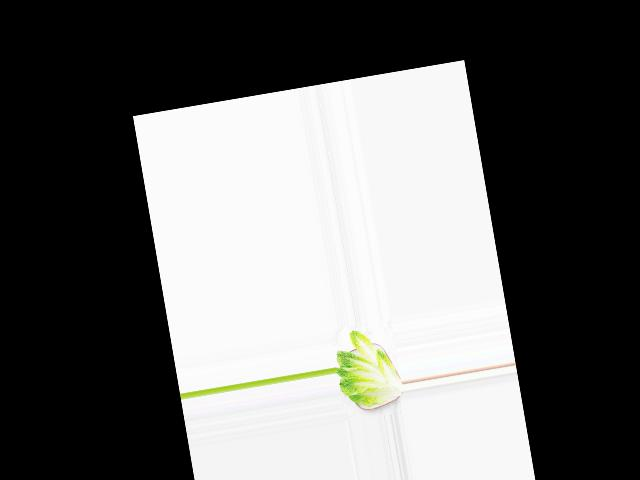lettuce: (328, 322, 403, 415)
